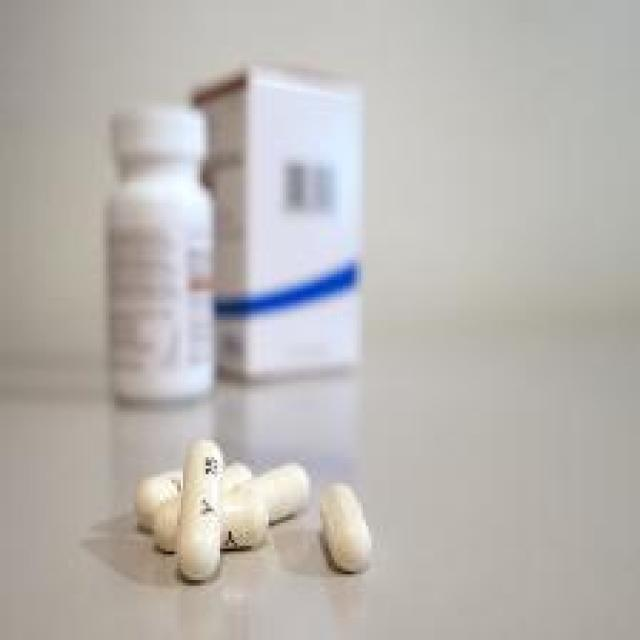Medicine: (74, 10, 447, 602)
